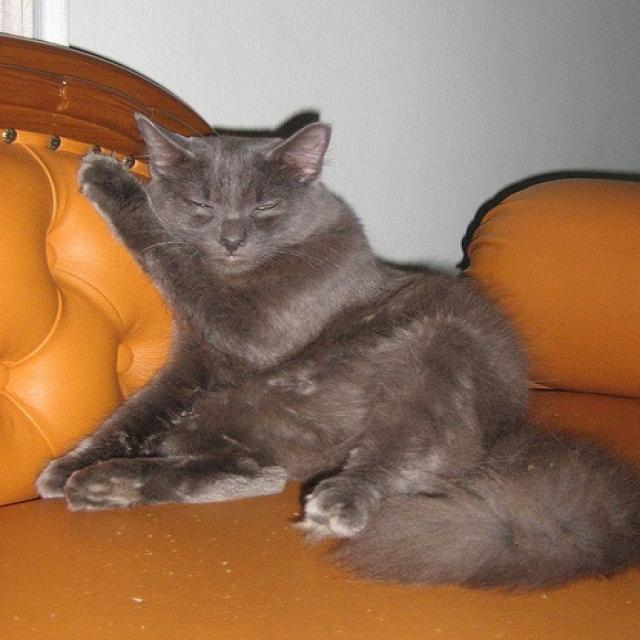cat: (35, 110, 639, 591)
